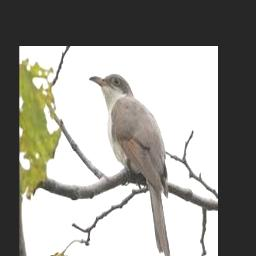Cuckoo: (88, 73, 171, 256)
